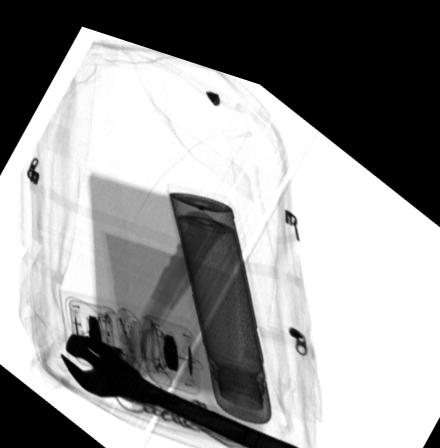Hammer: (63, 197, 227, 392)
Wrench: (57, 330, 306, 448)
